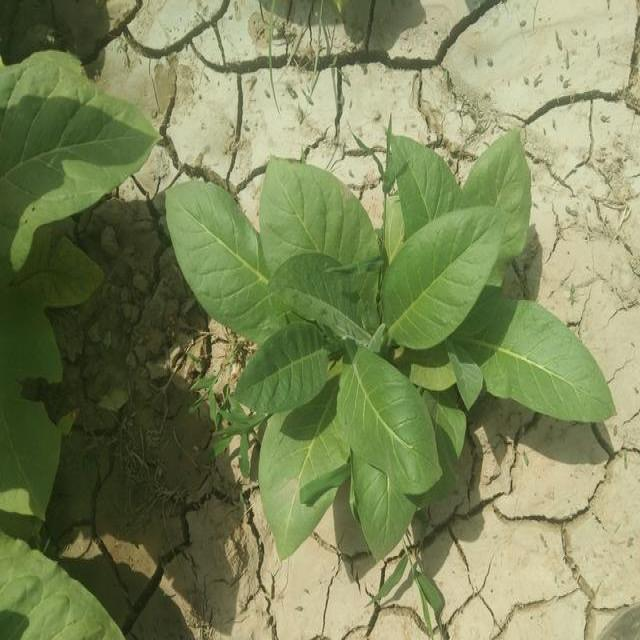crop: (169, 159, 607, 544), (0, 63, 146, 253)
